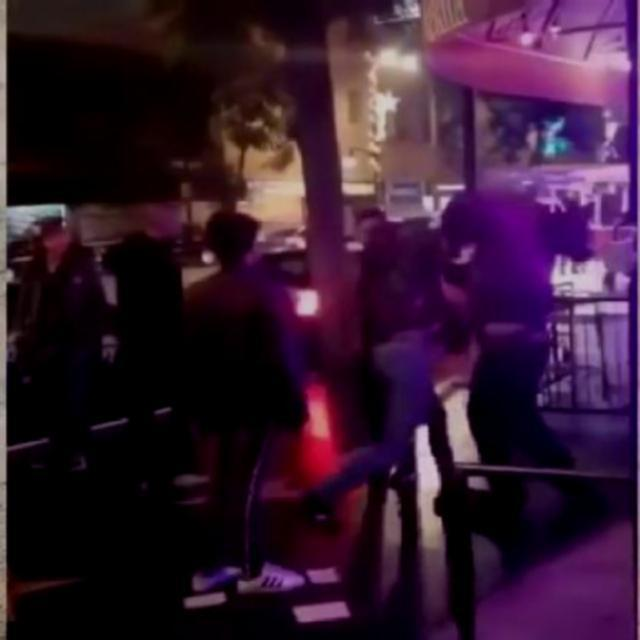fight: (363, 188, 582, 518)
non-fight: (180, 212, 306, 586), (15, 217, 120, 472)
